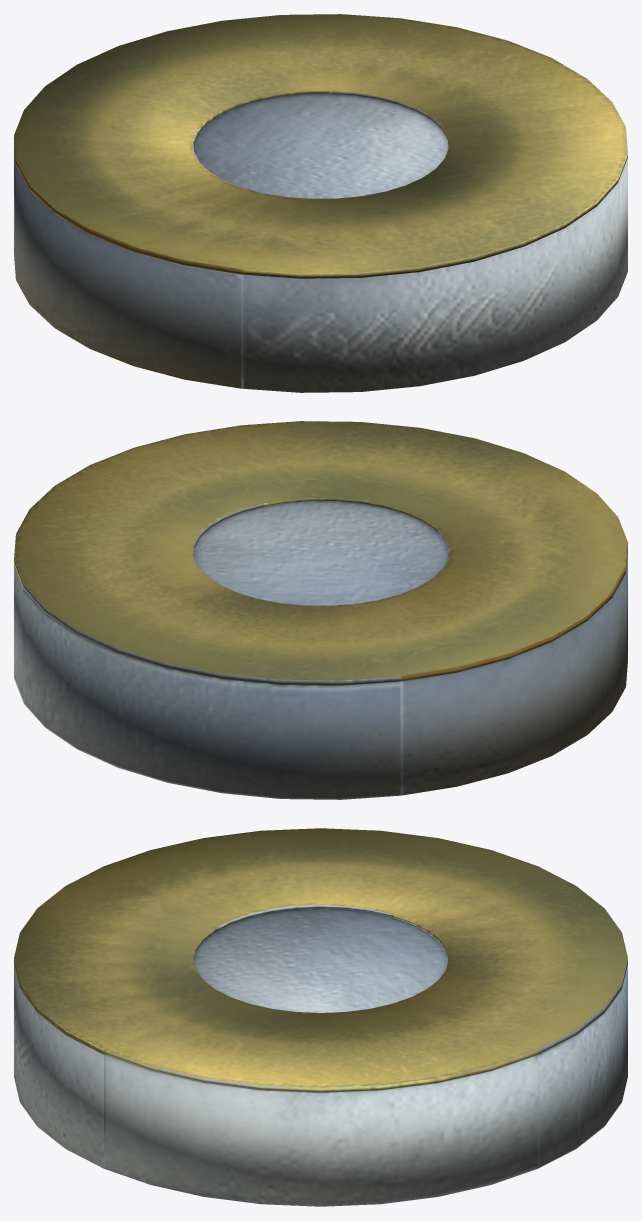
The model's file is RoundPlatform.glb.
The picture shows the model from 3 angles, top to bottom: view 1: azimuth 30°, elevation 25°; view 2: azimuth 150°, elevation 25°; view 3: azimuth 270°, elevation 25°; orthographic projection.
Visible parts, largest first — view 1: 柱体.005, 柱体; view 2: 柱体.005, 柱体; view 3: 柱体.005, 柱体.
Boxes of the visible parts, x1,y1,x2,y2 form: 柱体.005: [14, 14, 627, 278]; 柱体: [14, 94, 627, 392]; 柱体.005: [14, 421, 627, 685]; 柱体: [14, 501, 627, 799]; 柱体.005: [14, 828, 627, 1092]; 柱体: [14, 908, 627, 1206].
Size of what is drawn, in the model's own units: 1.24 by 0.265 by 1.24.
1 material, 1 textured.
